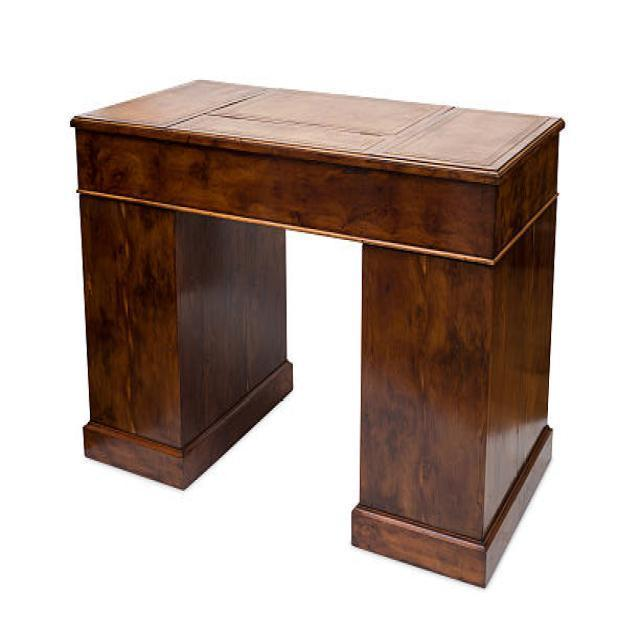table: (69, 76, 565, 588)
